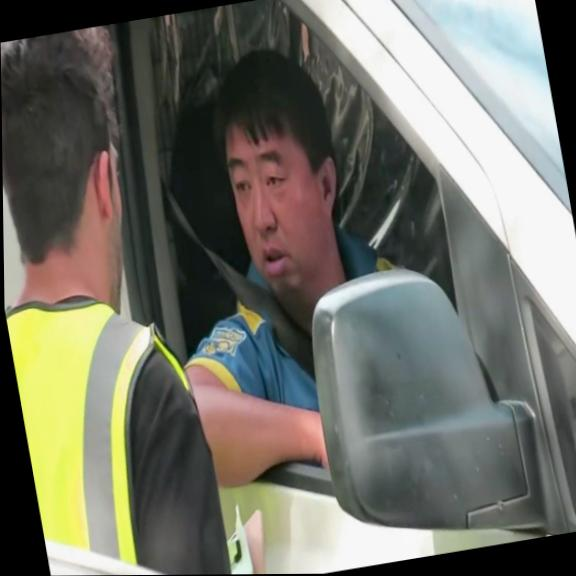safety_vest: (4, 277, 221, 576)
